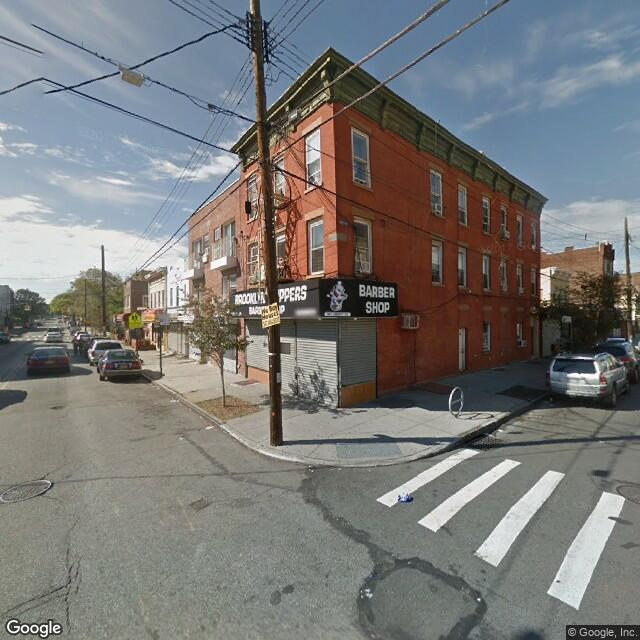litter: (398, 494, 414, 503), (304, 463, 315, 474), (203, 425, 217, 433), (359, 591, 373, 599), (482, 431, 494, 440), (167, 397, 178, 404), (475, 595, 484, 603), (178, 435, 186, 441), (595, 438, 603, 444), (497, 426, 503, 432), (337, 467, 342, 471), (365, 467, 369, 470)
